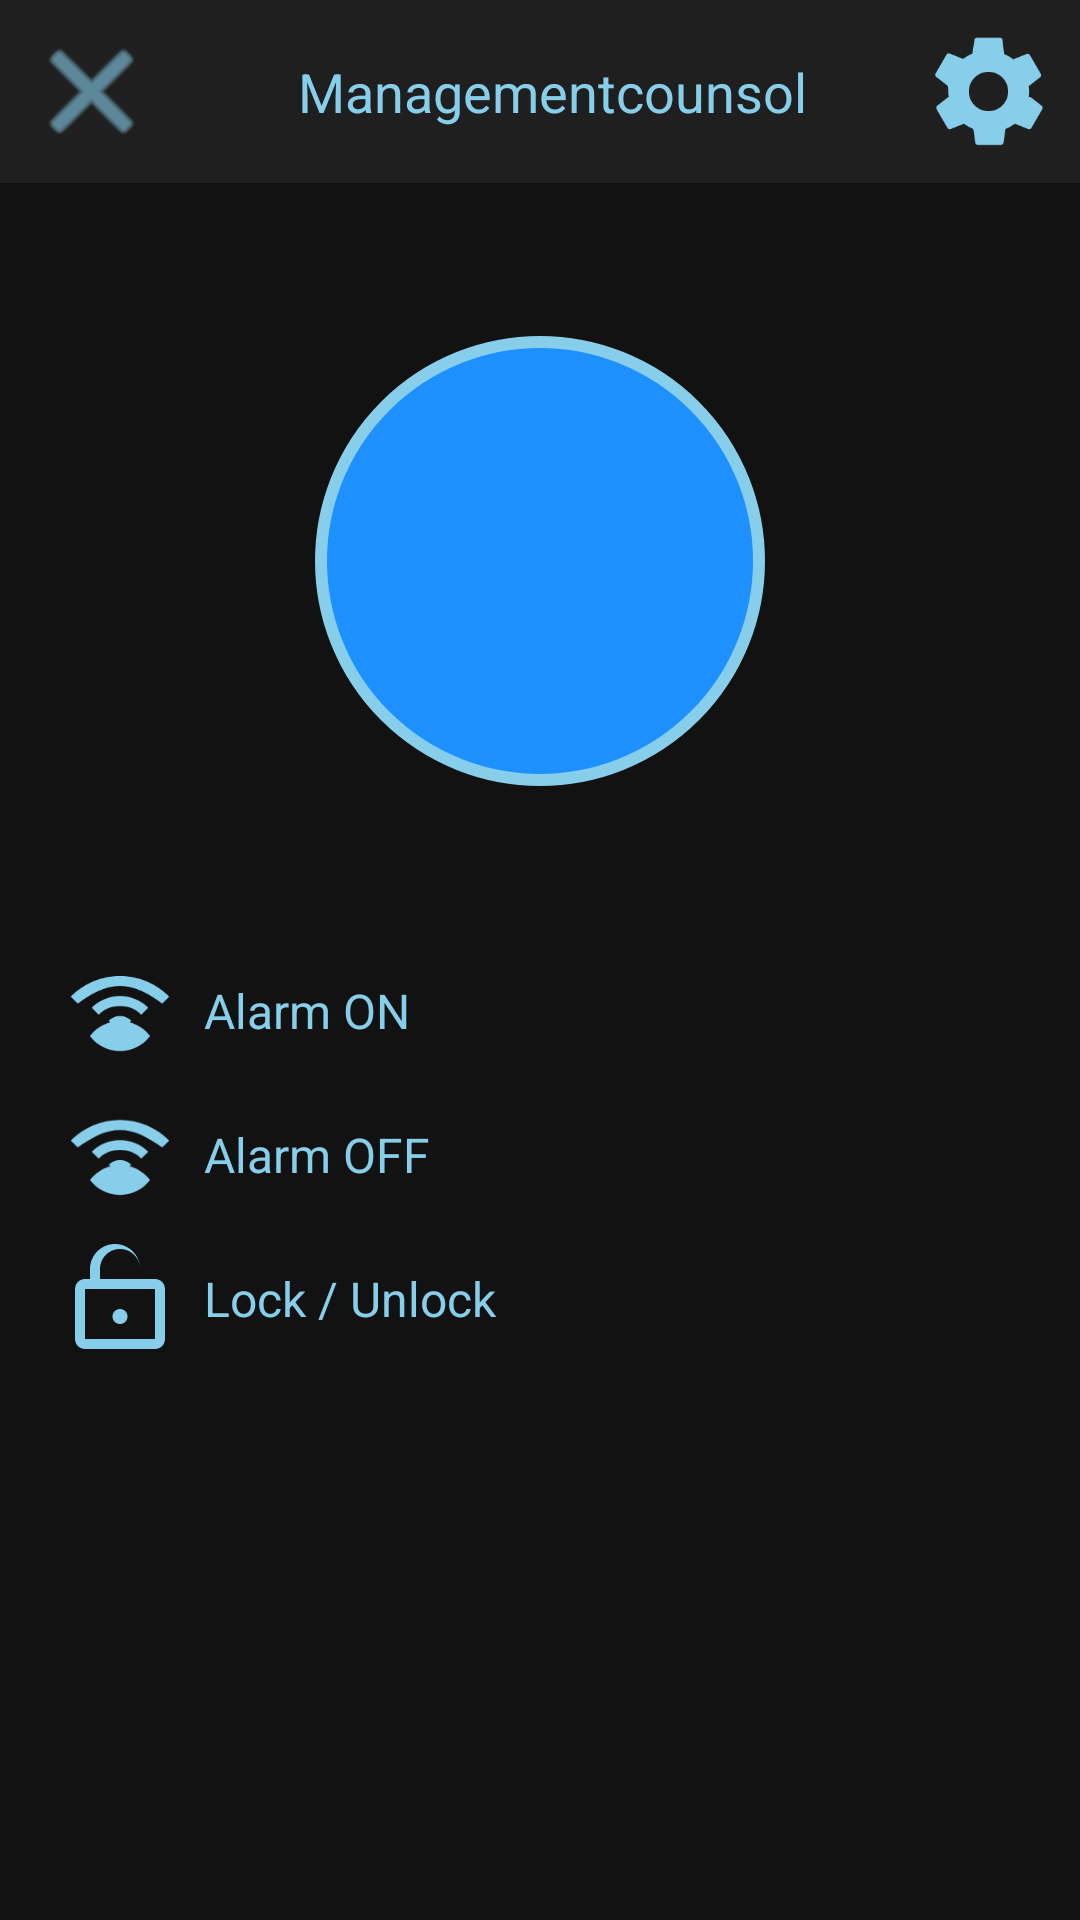

Point at icon controls on the screen. Image size 1080px x 1920px, points as (x=x, y=y).
close clear cancel: (x=91, y=91)
setting: (x=989, y=91)
